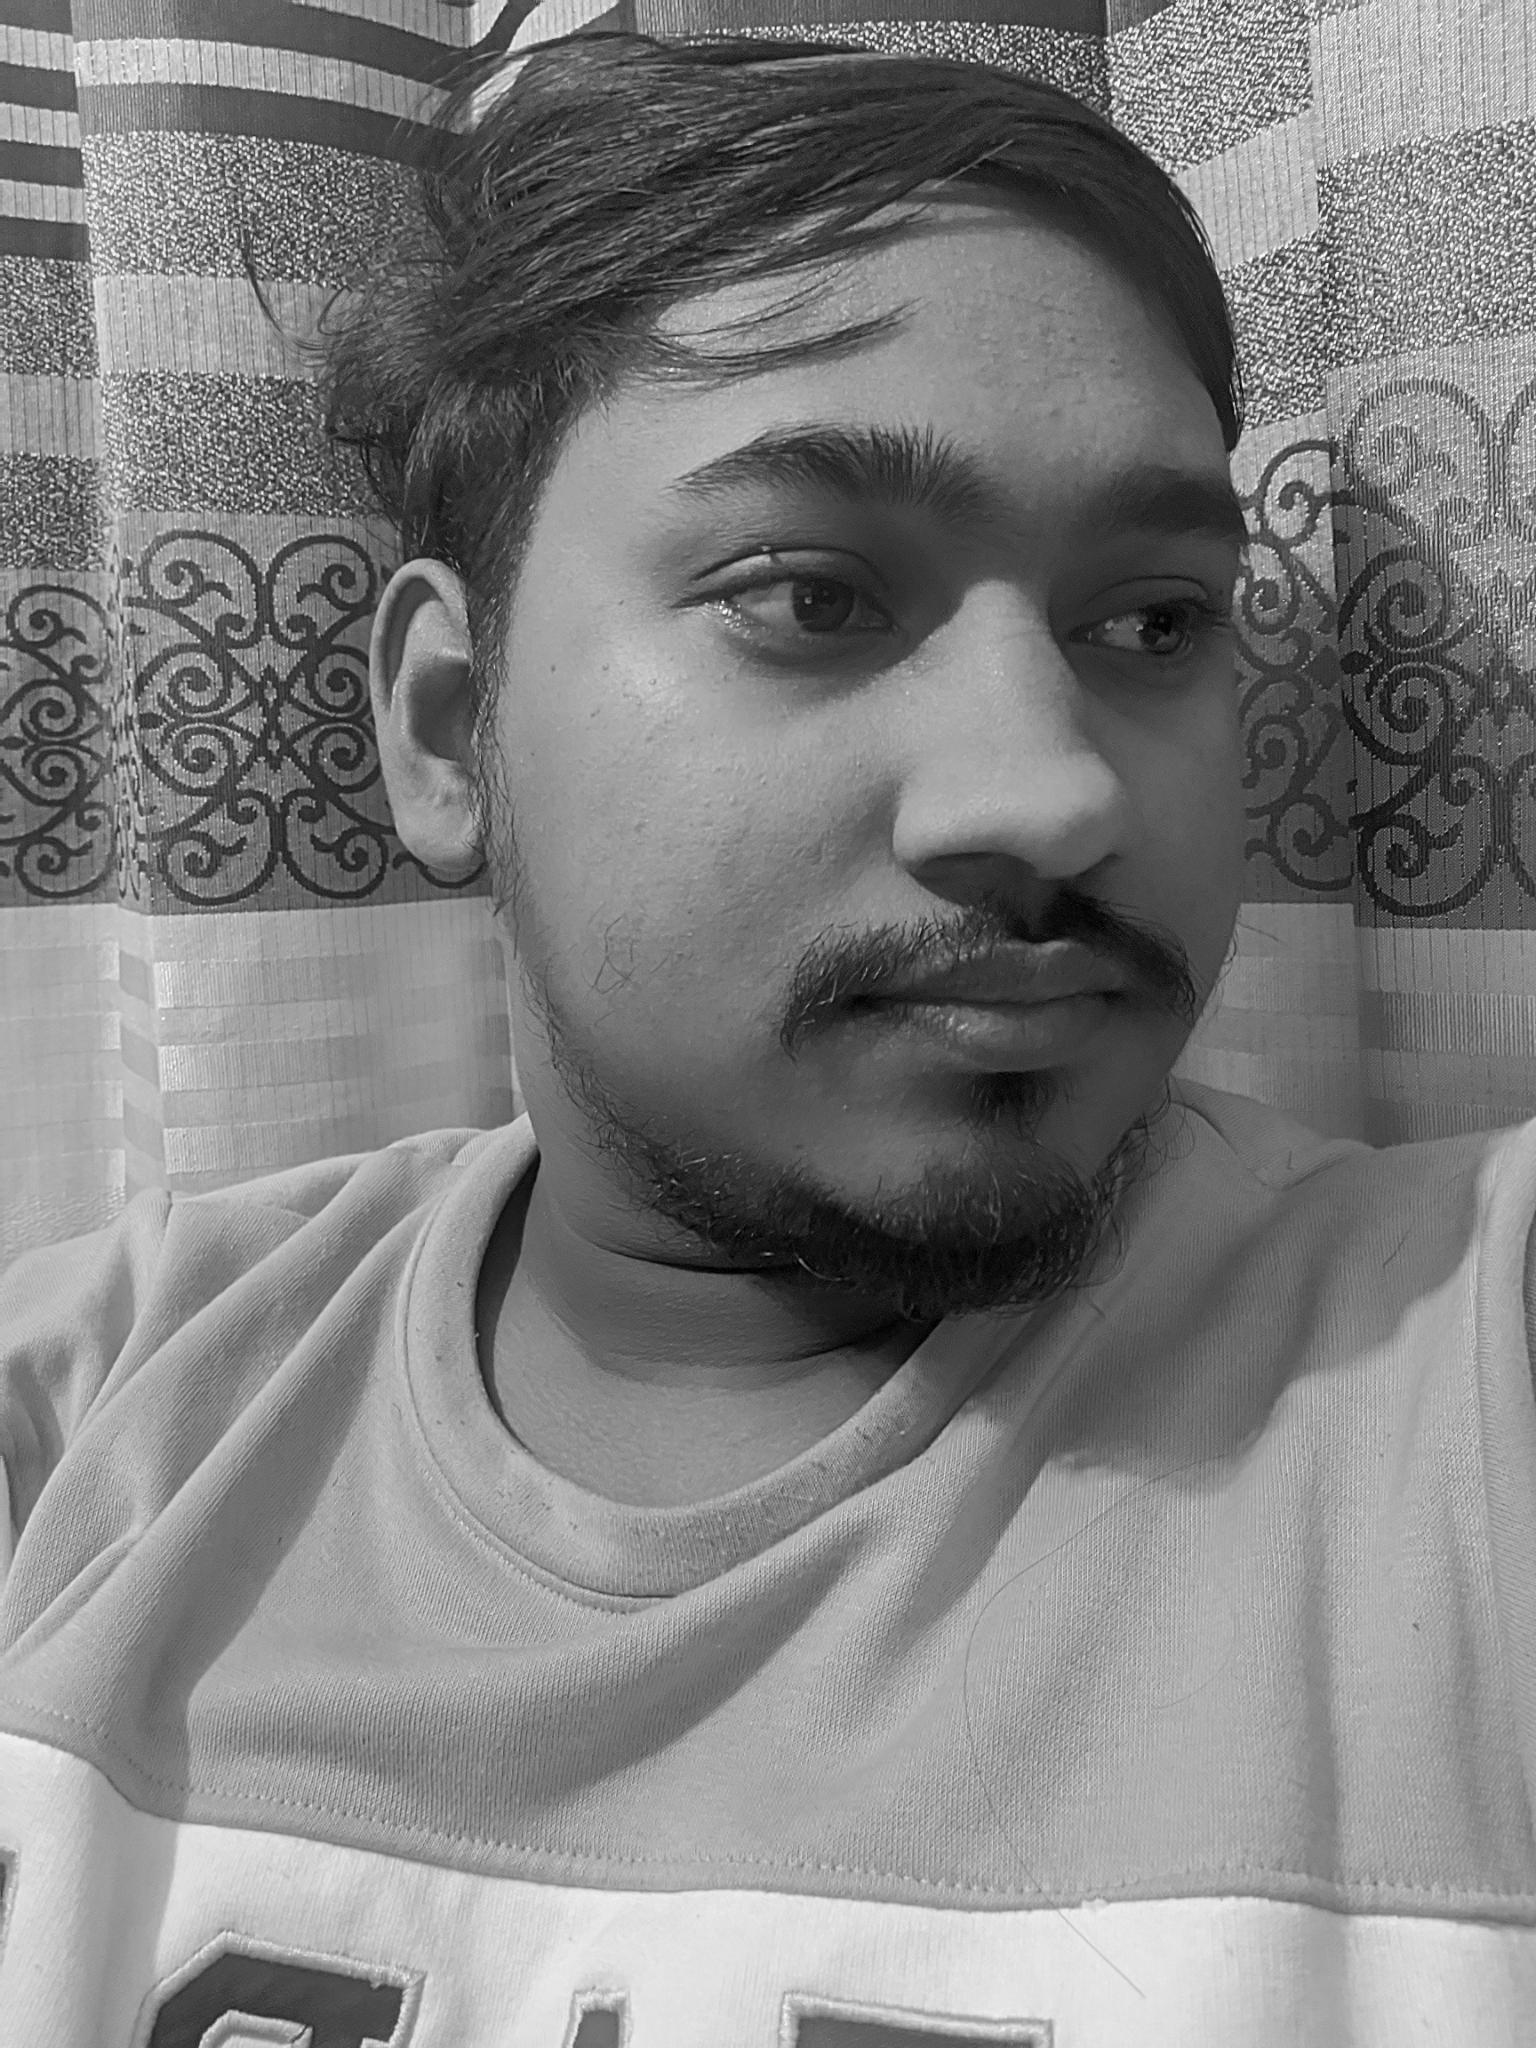Neutral: (618, 355, 1307, 1258)
